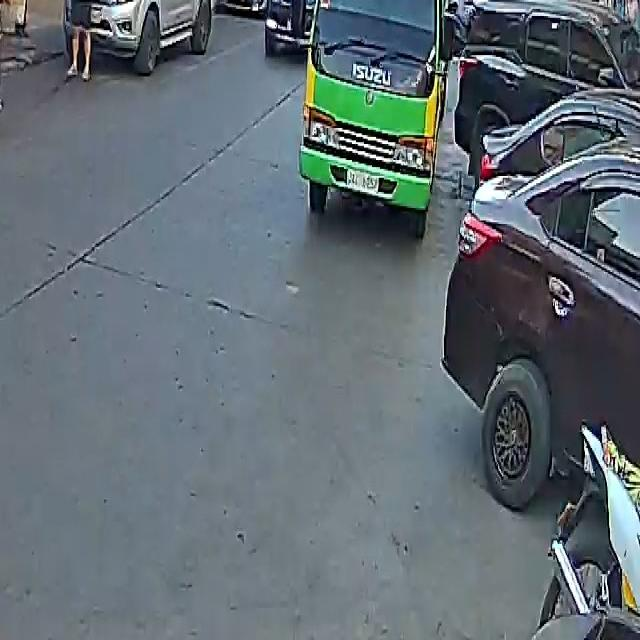car: (444, 54, 640, 534), (449, 0, 640, 185), (68, 0, 223, 73), (260, 0, 332, 50), (218, 0, 287, 14)
